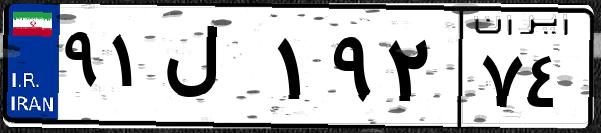1: (270, 28, 330, 110), (110, 28, 158, 98)
2: (385, 28, 445, 110)
4: (525, 38, 570, 115)
7: (475, 38, 525, 113)
9: (330, 28, 385, 110), (57, 26, 110, 100)
ل: (158, 20, 270, 120)
